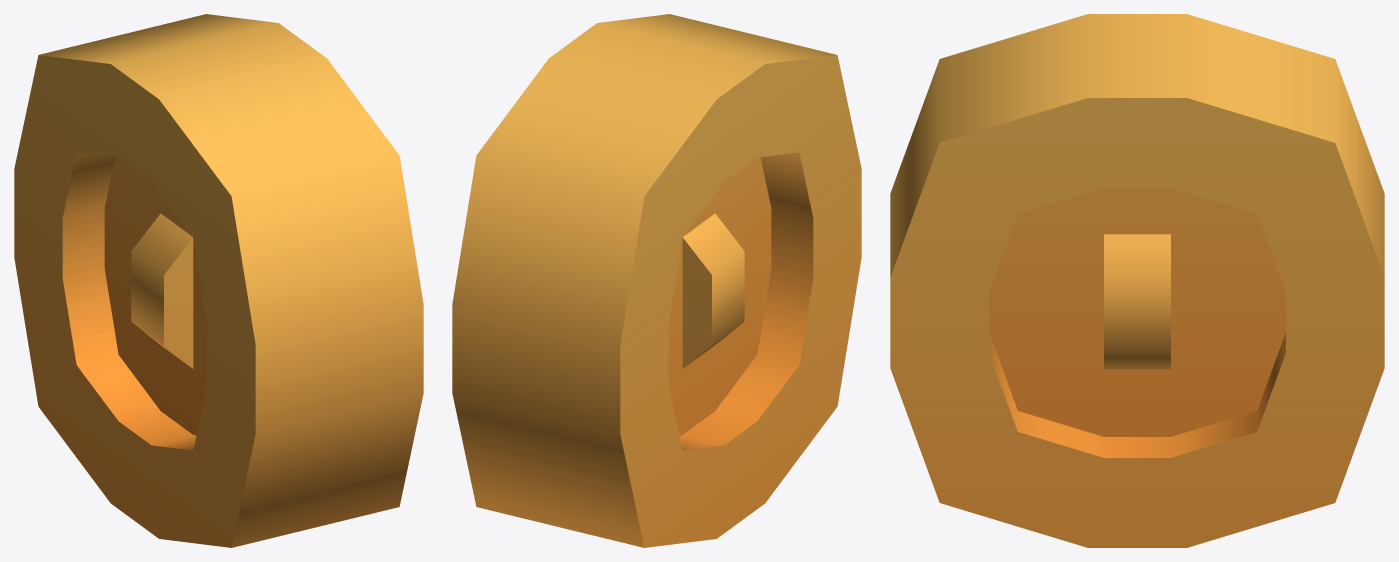
File: coin.fbx
3 renders of one model, left to right at view 1: azimuth 30°, elevation 25°; view 2: azimuth 150°, elevation 25°; view 3: azimuth 270°, elevation 25°, orthographic. The views are drawn at different scales.
Visible parts, largest first — view 1: coin; view 2: coin; view 3: coin.
Boxes of the visible parts, x1,y1,x2,y2 form: coin: [14, 14, 423, 547]; coin: [452, 14, 861, 547]; coin: [890, 14, 1384, 547].
Size of the model in its own units: 11.08 by 27.71 by 27.6.
